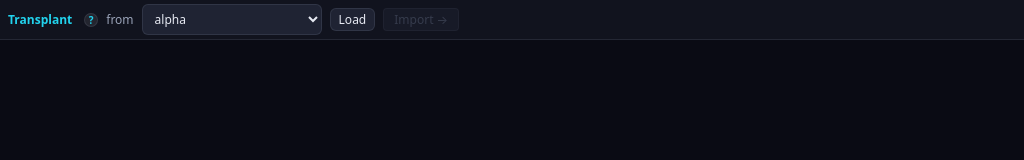
Test: V7-F54 TransplantBar › Load populates brick dropdown from RPC response
Click the button with test id "transplant-load-source" at (352, 20), box [330, 8, 375, 31]
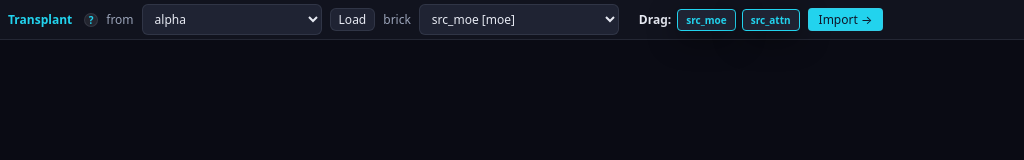
Result: the dropdown with test id "transplant-source-brick" shows "src_moe [moe]" at [419, 4, 619, 35]
